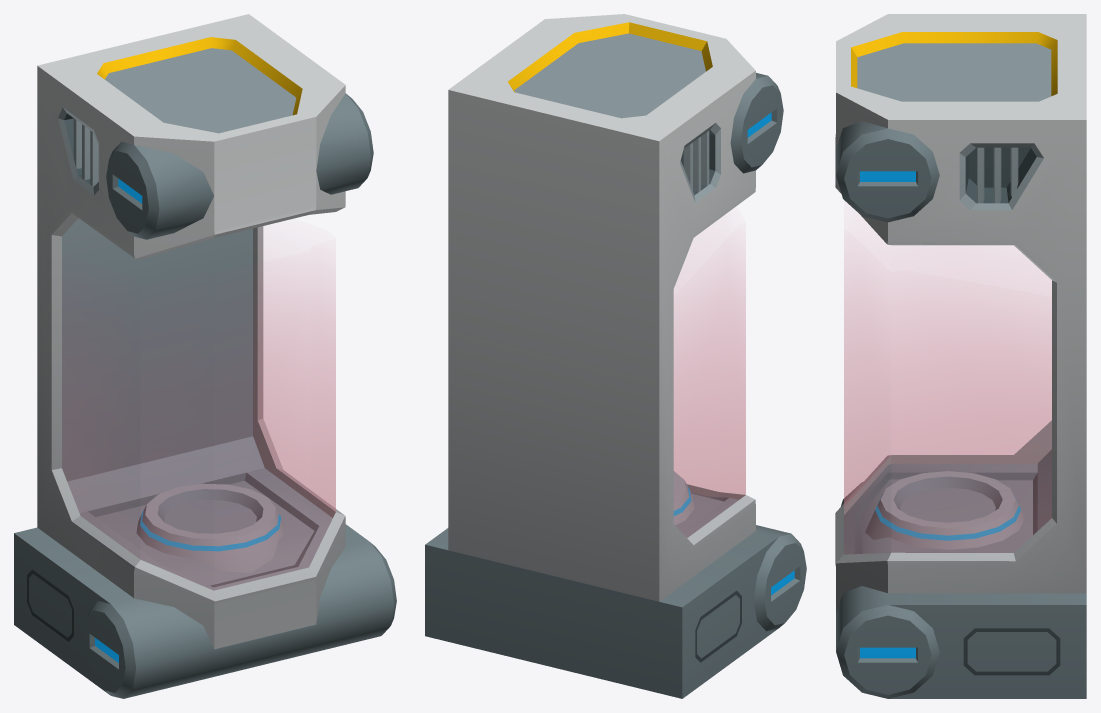
The picture shows the model from 3 angles, left to right: view 1: azimuth 30°, elevation 25°; view 2: azimuth 150°, elevation 25°; view 3: azimuth 270°, elevation 25°; orthographic projection. The views are drawn at different scales.
Parts seen in each view (by area): view 1: Сapsule_004; view 2: Сapsule_004; view 3: Сapsule_004.
Boxes of the visible parts, x1,y1,x2,y2 form: Сapsule_004: [14, 14, 396, 698]; Сapsule_004: [425, 14, 806, 698]; Сapsule_004: [835, 14, 1086, 698].
Bounding box in the file's own units: 1.03 × 2 × 0.8018.
3 materials, 3 textured.
